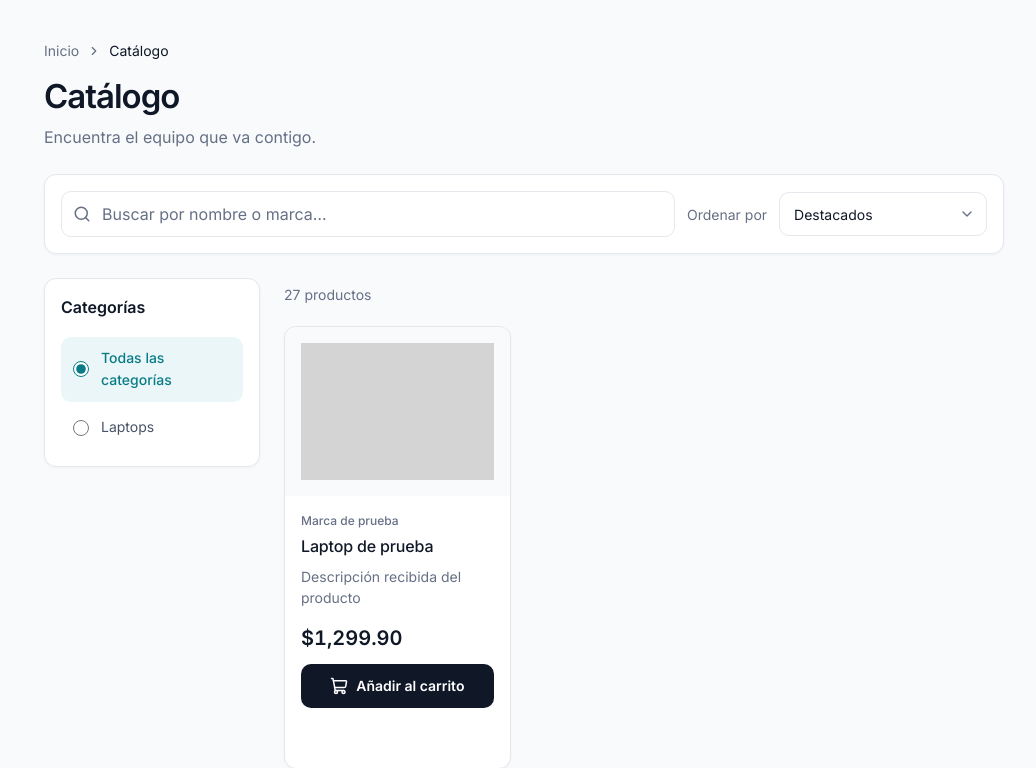
Test: Product cards and catalog › keeps the existing login requirement and does not send an unauthenticated cart request
Click the button "Añadir al carrito": click(397, 686) [301, 664, 494, 708]
(page scrolled)
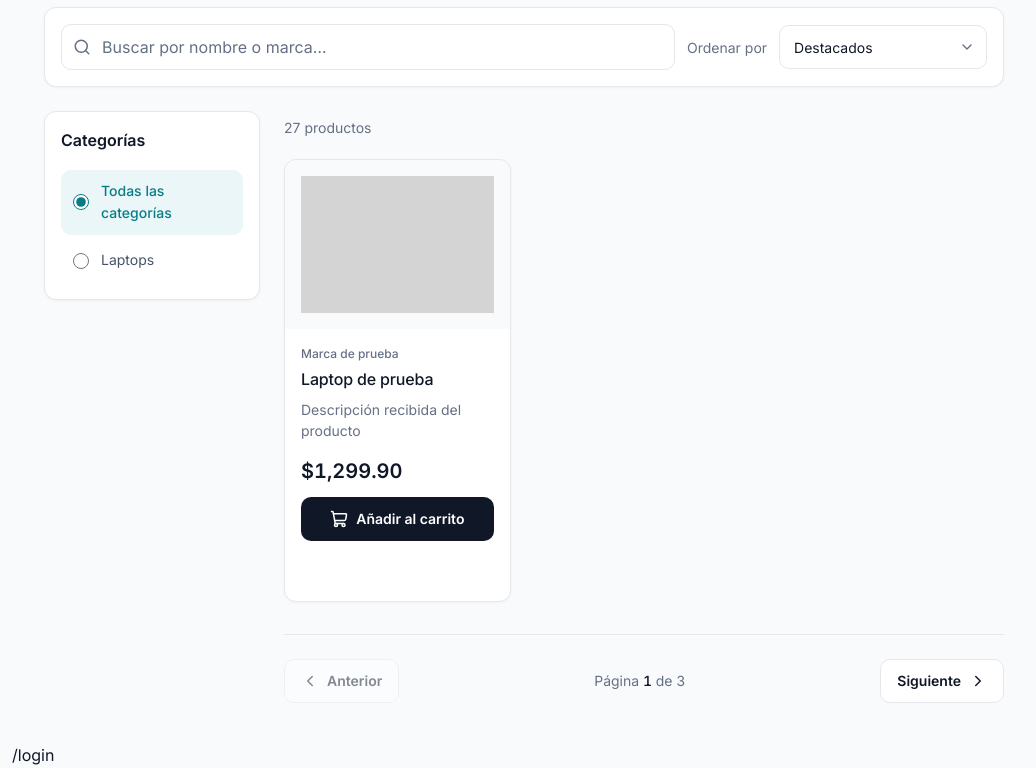
expect the text named "Ruta actual" reads "/login": met, box [12, 745, 54, 765]
